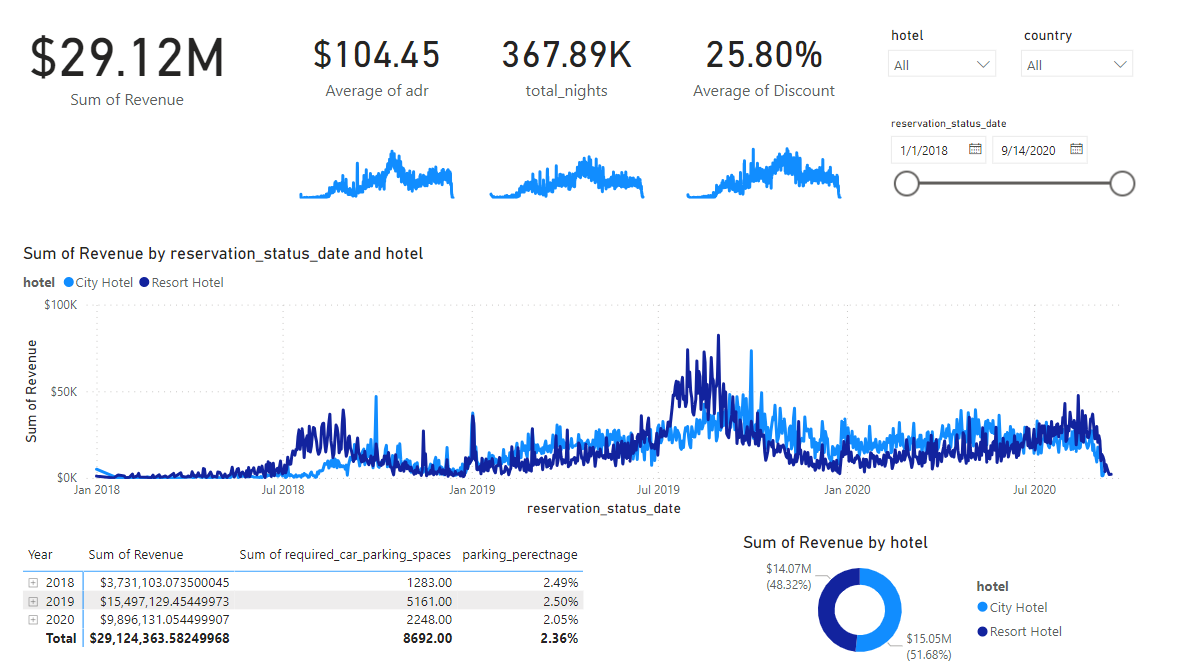

The dashboard page shown, as its layout file describes it:
{"tool":"powerbi","page":{"name":"Page 1","canvas":[1280,720],"ordinal":0},"visuals":[{"type":"card","fields":{"Values":["Sum(Query1.Revenue)"]},"box":[83.5,11.1,219.4,181.1],"z":0},{"type":"card","fields":{"Values":["Avg(Query1.adr)"]},"box":[337.6,21.4,215.2,160.1],"z":1000},{"type":"card","fields":{"Values":["Query1.total_nights"]},"box":[552.8,21.4,166.2,160.1],"z":2000},{"type":"card","fields":{"Values":["Avg(Query1.Discount)"]},"box":[719,21.4,229.5,160.1],"z":3000},{"type":"lineChart","fields":{"Category":["Query1.reservation_status_date"],"Y":["Sum(Query1.Revenue)"],"Series":["Query1.hotel"]},"box":[83.5,284.8,1127,279.7],"z":4000},{"type":"slicer","fields":{"Values":["Query1.country"]},"box":[1082.8,62.4,132.8,78.5],"z":5000},{"type":"slicer","fields":{"Values":["Query1.hotel"]},"box":[948.9,62.4,128.8,78.5],"z":6000},{"type":"pivotTable","fields":{"Rows":["Query1.reservation_status_date.Variation.Date Hierarchy.Year","Query1.hotel"],"Values":["Sum(Query1.Revenue)","Sum(Query1.required_car_parking_spaces)","Query1.parking_perectnage"]},"box":[83.5,582.6,585.7,130.8],"z":7000},{"type":"donutChart","fields":{"Y":["Sum(Query1.Revenue)"],"Category":["Query1.hotel"]},"box":[808.1,575.6,340.1,137.9],"z":8000},{"type":"slicer","fields":{"Values":["Query1.reservation_status_date"]},"box":[948.9,153,266.7,111.7],"z":9000},{"type":"lineChart","fields":{"Category":["Query1.reservation_status_date"],"Y":["Sum(Query1.adr)"]},"box":[353.2,172.1,183.1,73.5],"z":10000},{"type":"lineChart","fields":{"Category":["Query1.reservation_status_date"],"Y":["Query1.total_nights"]},"box":[544.4,172.1,183.1,73.5],"z":11000},{"type":"lineChart","fields":{"Category":["Query1.reservation_status_date"],"Y":["Sum(Query1.Discount)"]},"box":[742.6,172.1,183.1,73.5],"z":12000}]}

Visuals, with their boxes in screenshot pixels (x1, y1, x2, y2), scaled from the page's 1280x720 canvas onto the 1178x670 screenshot:
card - Sum(Query1.Revenue): bbox(77, 10, 279, 179)
card - Avg(Query1.adr): bbox(311, 20, 509, 169)
card - Query1.total_nights: bbox(509, 20, 662, 169)
card - Avg(Query1.Discount): bbox(662, 20, 873, 169)
lineChart - Query1.reservation_status_date x Sum(Query1.Revenue): bbox(77, 265, 1114, 525)
slicer - Query1.country: bbox(997, 58, 1119, 131)
slicer - Query1.hotel: bbox(873, 58, 992, 131)
pivotTable - Query1.reservation_status_date.Variation.Date Hierarchy.Year x Query1.hotel: bbox(77, 542, 616, 664)
donutChart - Sum(Query1.Revenue) x Query1.hotel: bbox(744, 536, 1057, 664)
slicer - Query1.reservation_status_date: bbox(873, 142, 1119, 246)
lineChart - Query1.reservation_status_date x Sum(Query1.adr): bbox(325, 160, 494, 229)
lineChart - Query1.reservation_status_date x Query1.total_nights: bbox(501, 160, 670, 229)
lineChart - Query1.reservation_status_date x Sum(Query1.Discount): bbox(683, 160, 852, 229)
